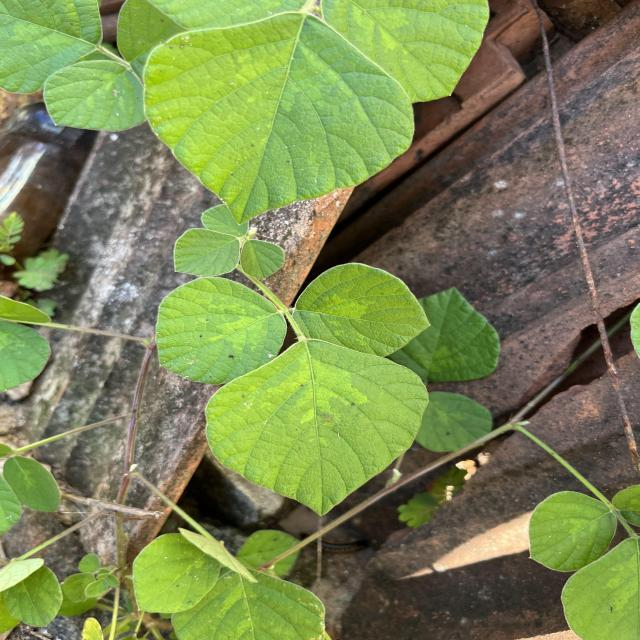Pseudarthria viscida: (154, 262, 433, 518), (173, 202, 285, 279)
